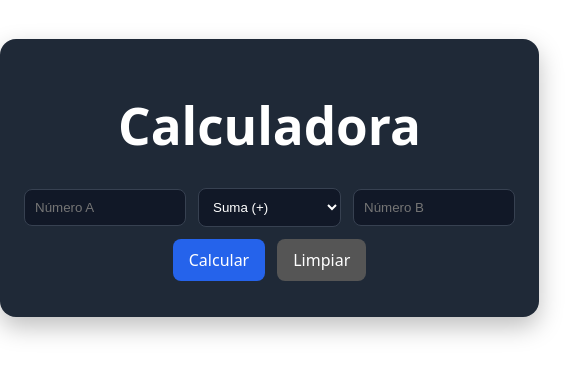
Test: valida entradas no numéricas
Type "a" into the field named "primer-numero" at (105, 208), box [24,189,186,226]
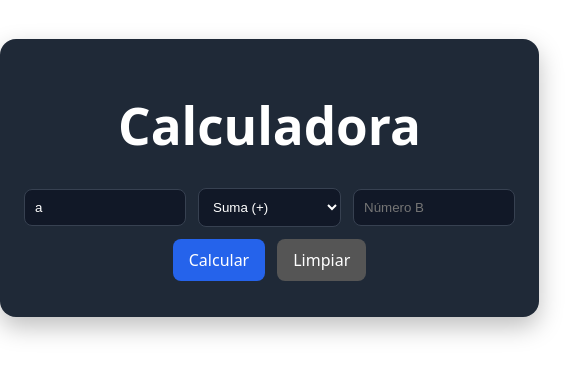
Type "1" into the field named "segundo-numero" at (434, 208), box [353,189,515,226]
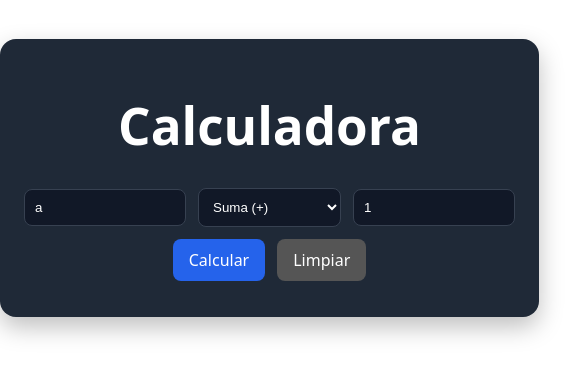
Click the button "Calcular" at (219, 260), box [173,239,265,281]
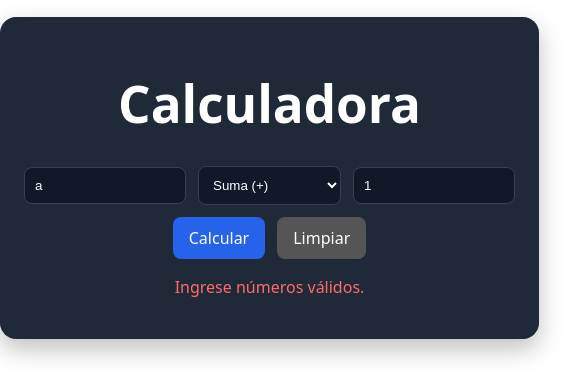
Expected: the message shows "Ingrese números válidos", [175,276,364,298]
